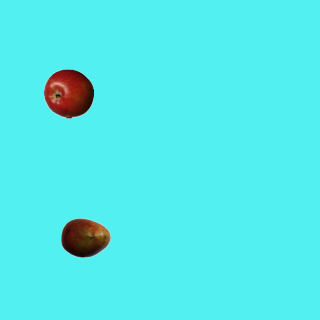Apple Braeburn: (43, 68, 93, 118)
Mango Red: (60, 212, 110, 262)
